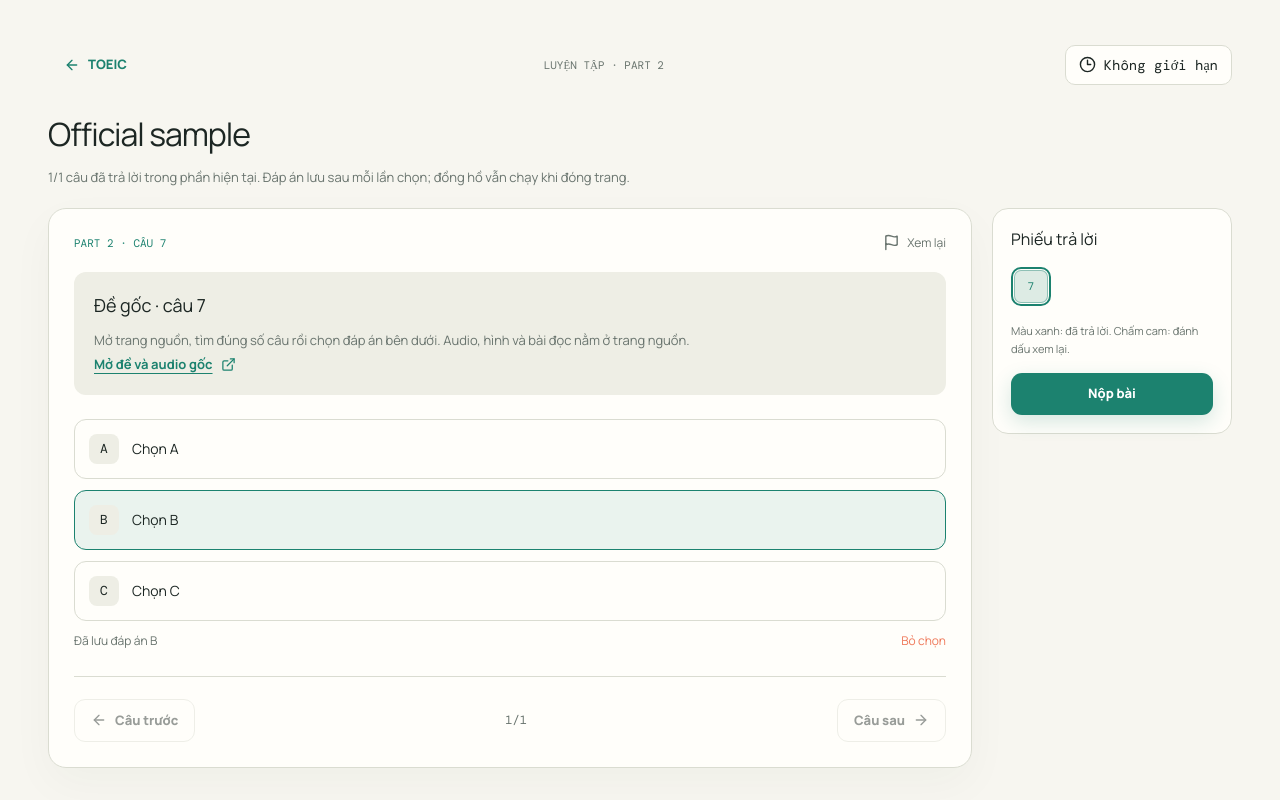
Test case: restores saved answers, offers three choices for Part 2, and saves changes
Click the button "A Chọn A" at (155, 449), box [74,419,946,479]
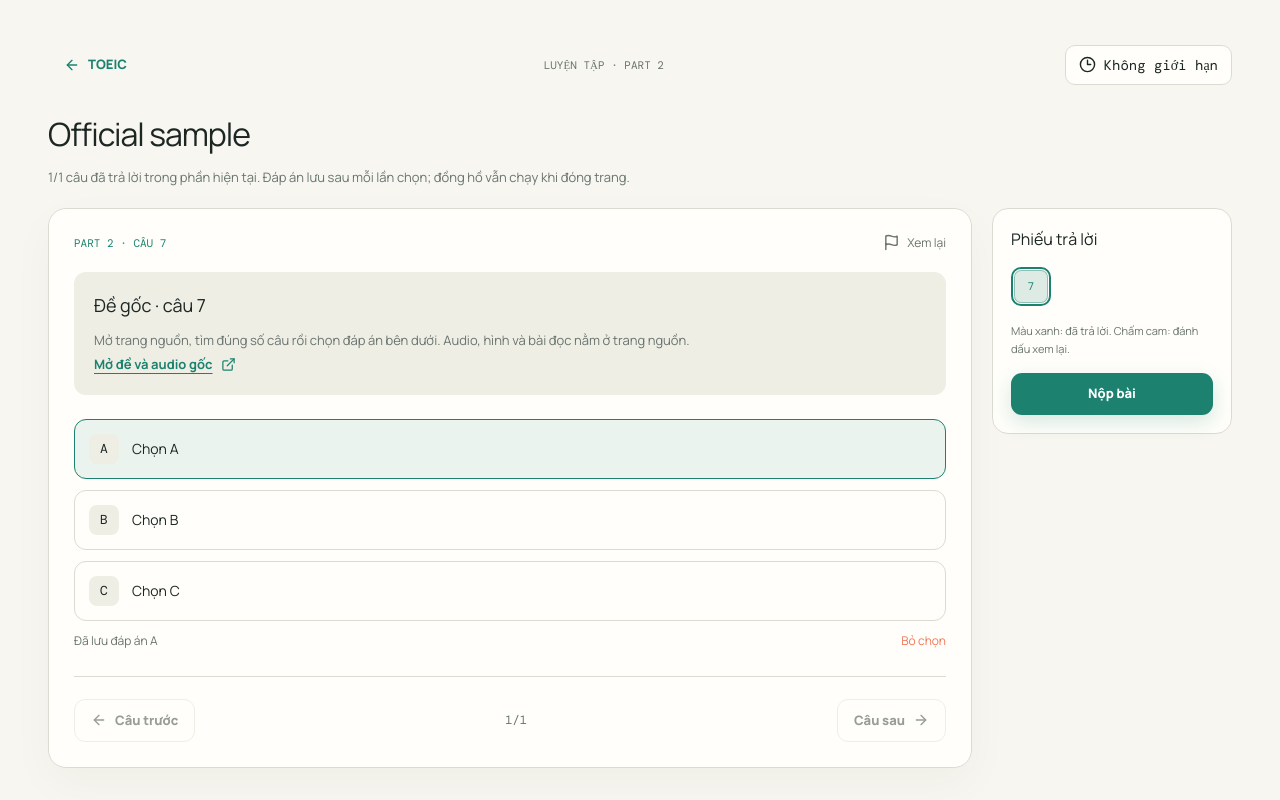
Expected: the text "Đã lưu đáp án A" is shown, [74,632,158,649]
